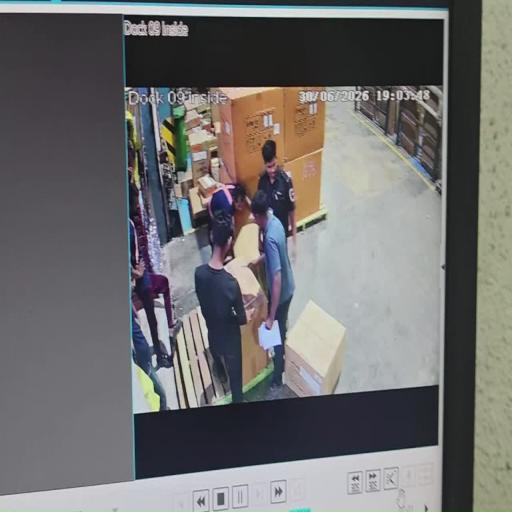carton: (216, 88, 284, 187), (282, 300, 348, 398), (222, 259, 271, 391), (283, 87, 326, 162), (232, 224, 268, 302), (294, 154, 322, 221), (230, 202, 258, 239), (189, 186, 212, 218), (191, 157, 210, 183), (191, 142, 212, 160), (199, 174, 217, 194), (188, 130, 206, 148)
pallet: (170, 307, 274, 408), (292, 205, 328, 236)
person: (194, 210, 248, 402), (247, 188, 296, 396), (128, 216, 182, 356), (128, 288, 168, 411), (257, 136, 298, 254), (205, 182, 250, 261)
